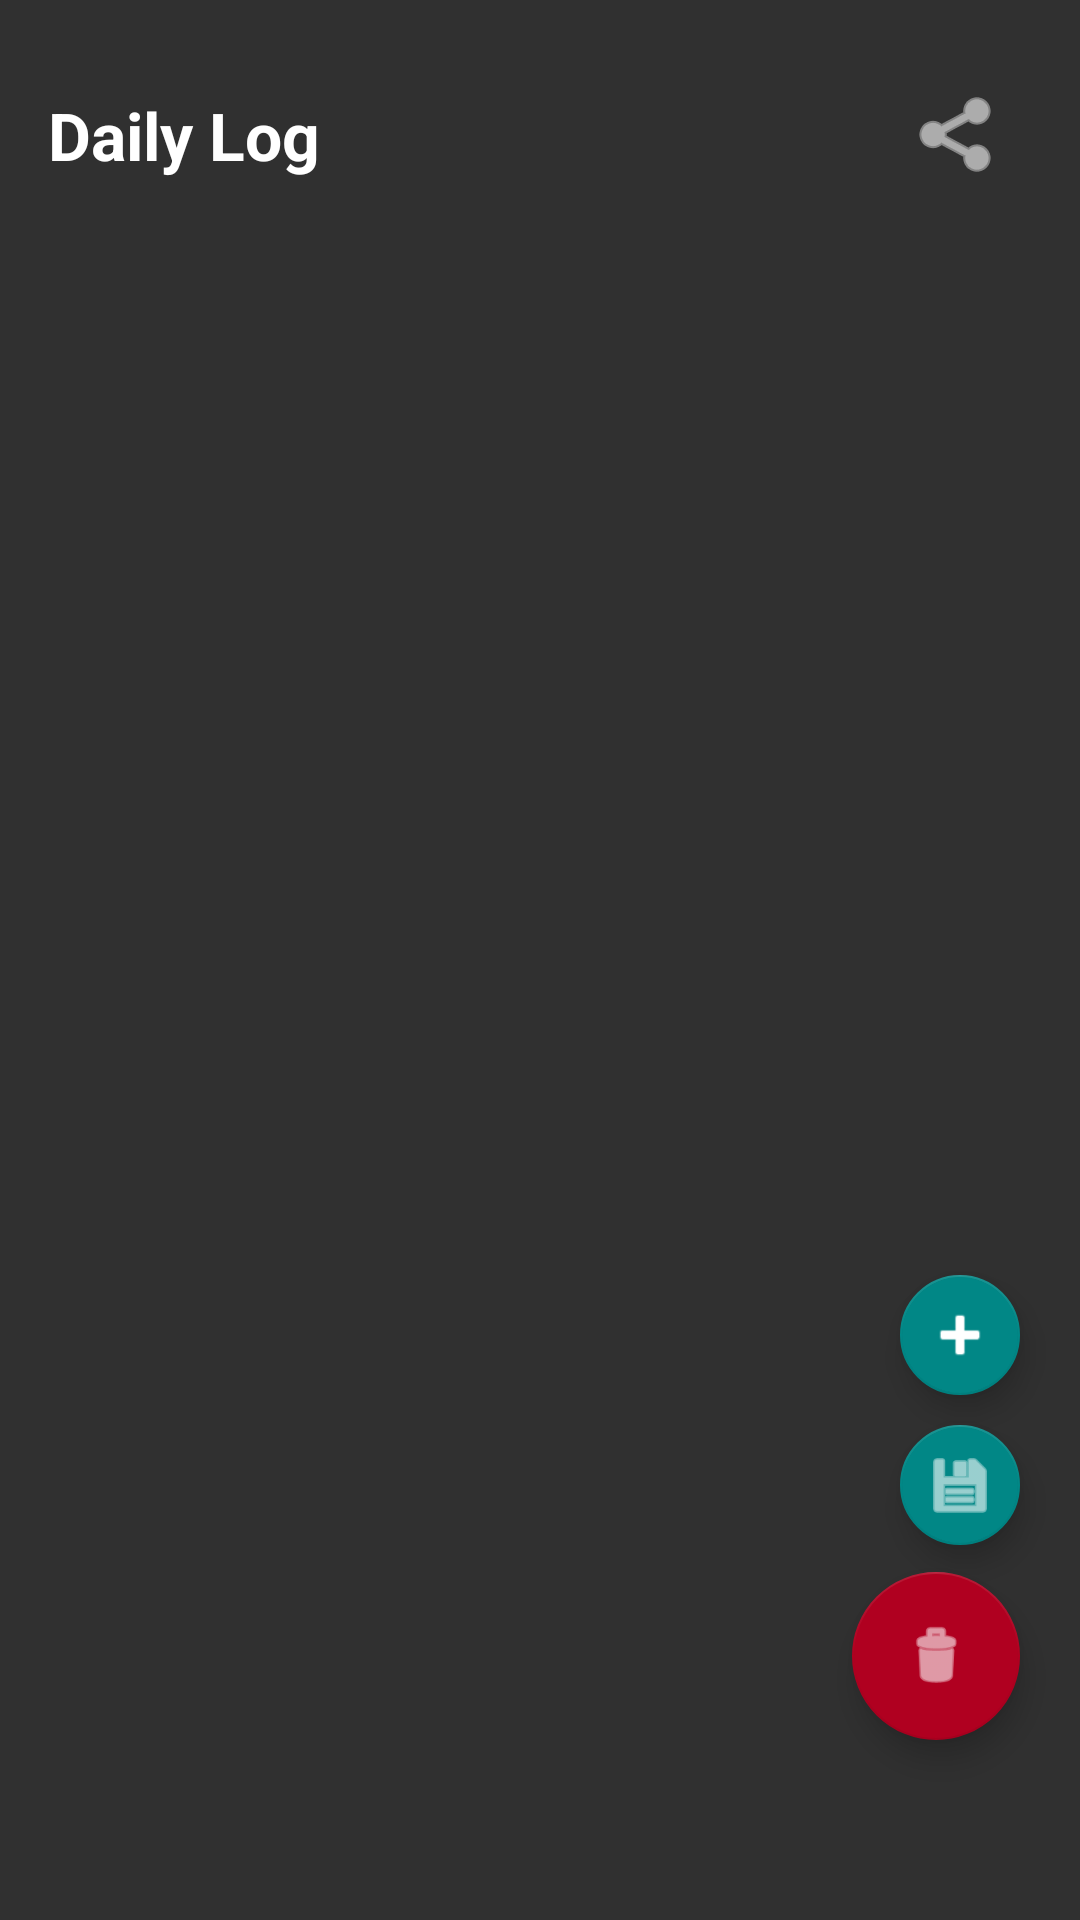

Where to tap for icons on this 1080×1920 app screen, as [x,y]:
Add manual entry: [960,1335]
Clear Week: [936,1656]
Save CSV: [960,1485]
Share Weekly Log: [955,134]
